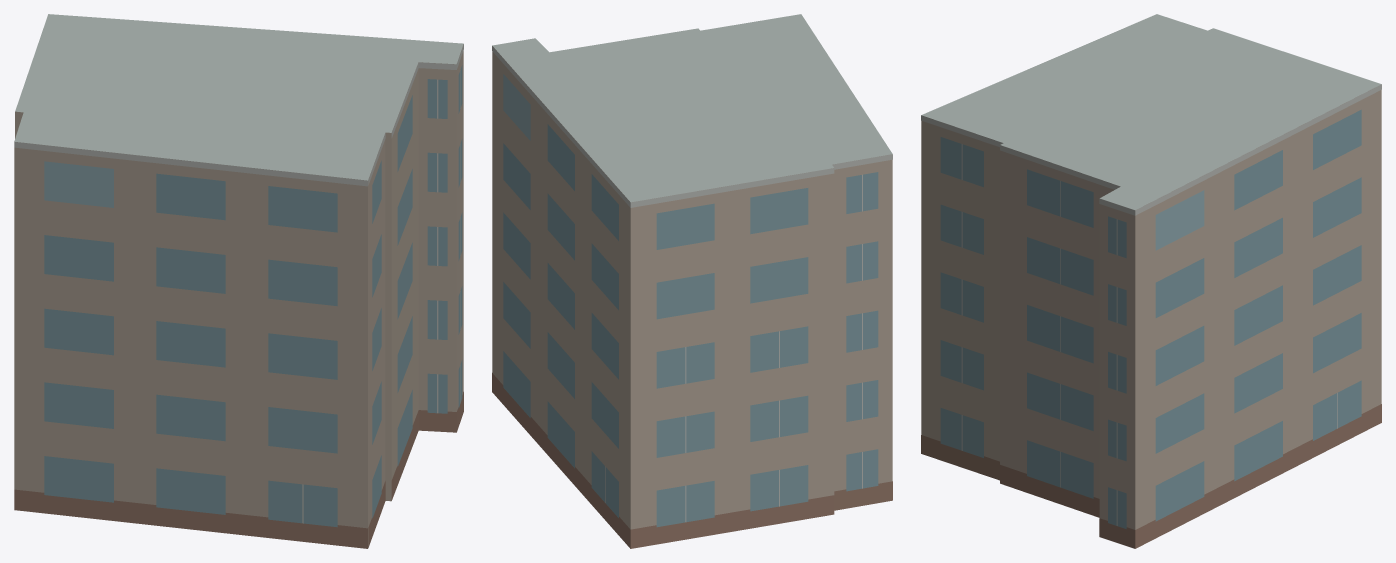
File: survey-upis-32657199.glb
The picture shows the model from 3 angles, left to right: view 1: azimuth 30°, elevation 25°; view 2: azimuth 150°, elevation 25°; view 3: azimuth 270°, elevation 25°; orthographic projection. The views are drawn at different scales.
Visible parts, largest first — view 1: survey-upis-32657199.tmp; view 2: survey-upis-32657199.tmp; view 3: survey-upis-32657199.tmp.
Boxes of the visible parts, x1,y1,x2,y2 form: survey-upis-32657199.tmp: (14, 14, 463, 548); survey-upis-32657199.tmp: (492, 14, 892, 548); survey-upis-32657199.tmp: (921, 14, 1381, 548).
Size of the model in its own units: 18.97 by 15.25 by 18.81.
